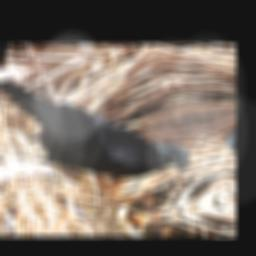Crow: (0, 52, 199, 198)
